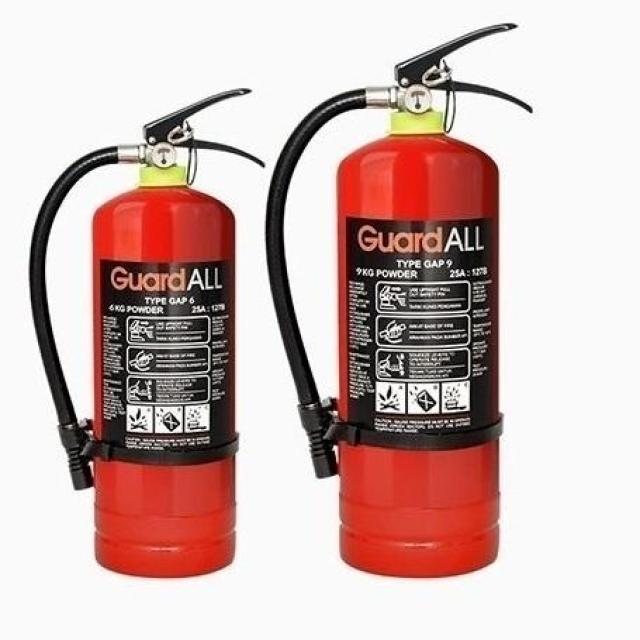fire_extinguisher: (261, 18, 535, 581), (22, 82, 268, 581)
